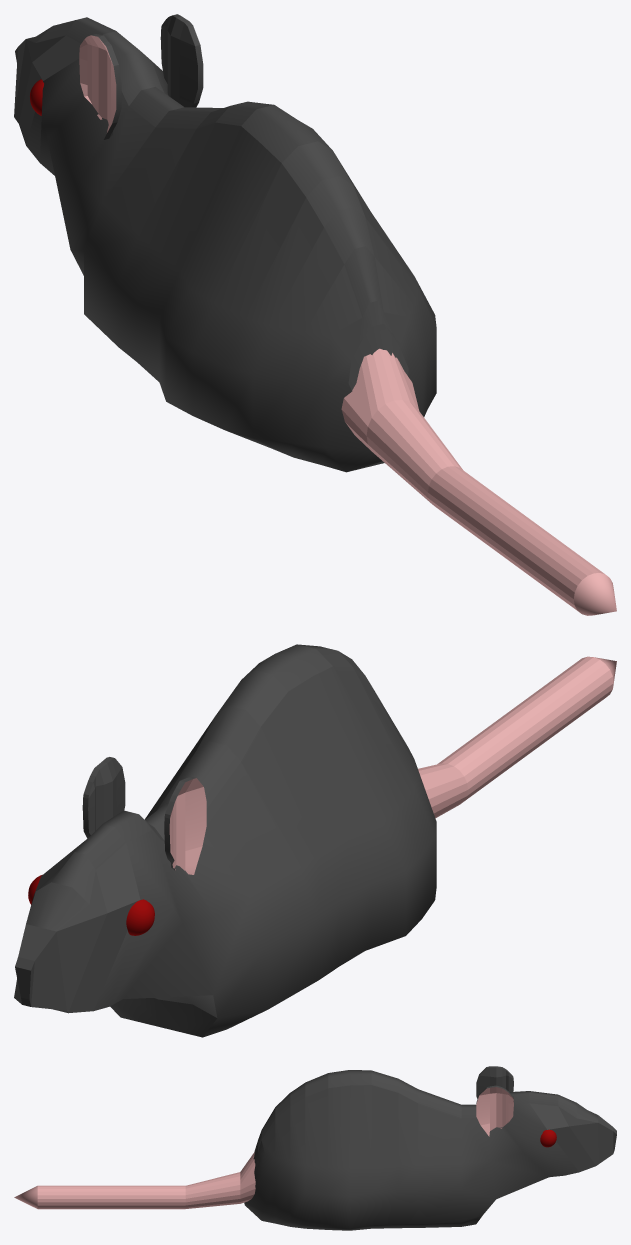
The model's file is Bigrat.fbx.
3 renders of one model, top to bottom at view 1: azimuth 30°, elevation 25°; view 2: azimuth 150°, elevation 25°; view 3: azimuth 270°, elevation 25°, orthographic. The views are drawn at different scales.
Parts seen in each view (by area): view 1: pCube1, pCone1, pCube4, pCube3; view 2: pCube1, pCone1, pCube3, pCube4, pSphere2; view 3: pCube1, pCone1, pCube4, pCube3.
Part boxes in pixels (box(x1,y1,x2,y2)): pCube1: box(14, 17, 436, 472); pCone1: box(341, 348, 616, 615); pCube4: box(160, 14, 203, 107); pCube3: box(79, 34, 121, 139); pCube1: box(14, 644, 436, 1037); pCone1: box(418, 656, 616, 818); pCube3: box(164, 776, 206, 874); pCube4: box(82, 757, 125, 838); pSphere2: box(126, 899, 154, 935); pCube1: box(244, 1070, 616, 1230); pCone1: box(14, 1152, 255, 1209); pCube4: box(476, 1085, 513, 1136); pCube3: box(476, 1066, 513, 1098).
Size of the model in its own units: 0.8806 by 0.9819 by 3.78.
